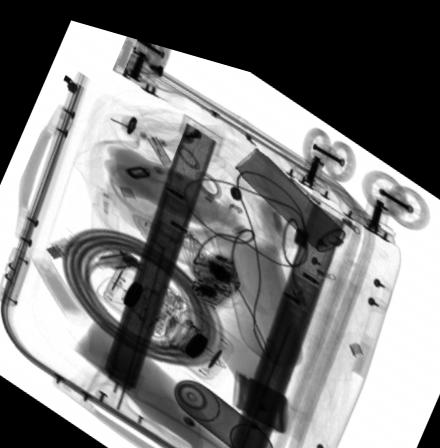Sprayer: (157, 358, 273, 448)
